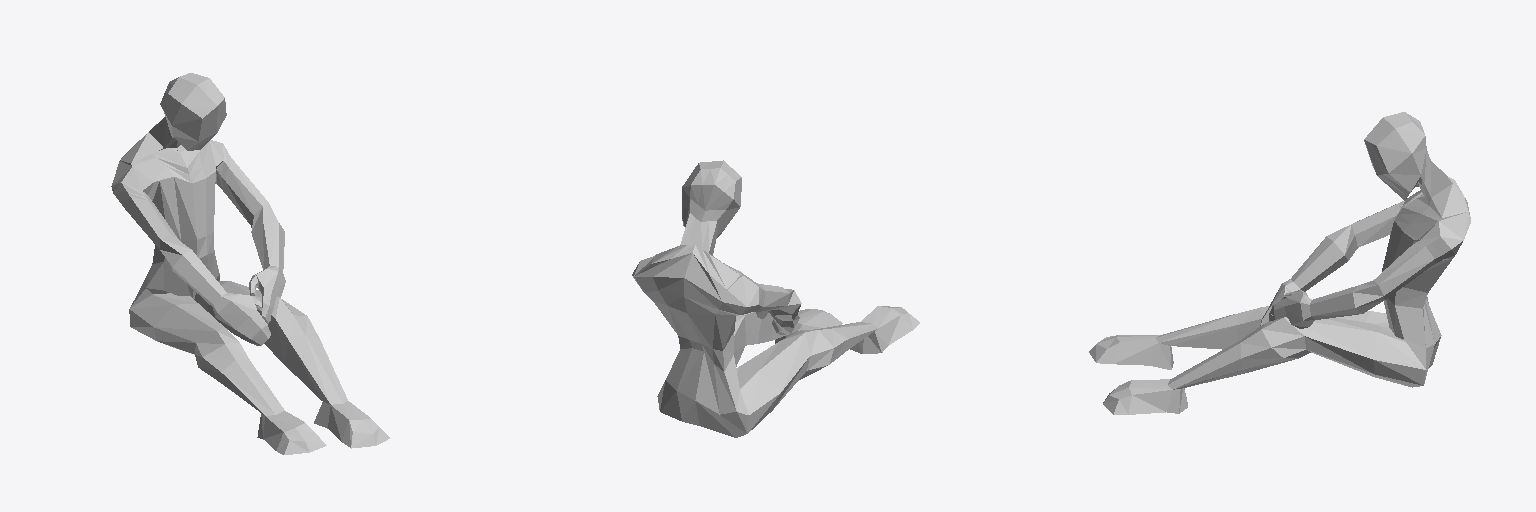
Rendered from dead_body_7.obj.
3 renders of one model, left to right at view 1: azimuth 30°, elevation 25°; view 2: azimuth 150°, elevation 25°; view 3: azimuth 270°, elevation 25°, orthographic.
Visible parts, largest first — view 1: standard; view 2: standard; view 3: standard.
Boxes of the visible parts, <box> form: standard: <box>111,73,389,454</box>; standard: <box>632,160,919,437</box>; standard: <box>1089,112,1470,414</box>.
Size of the model in its own units: 0.9857 by 1.94 by 2.45.